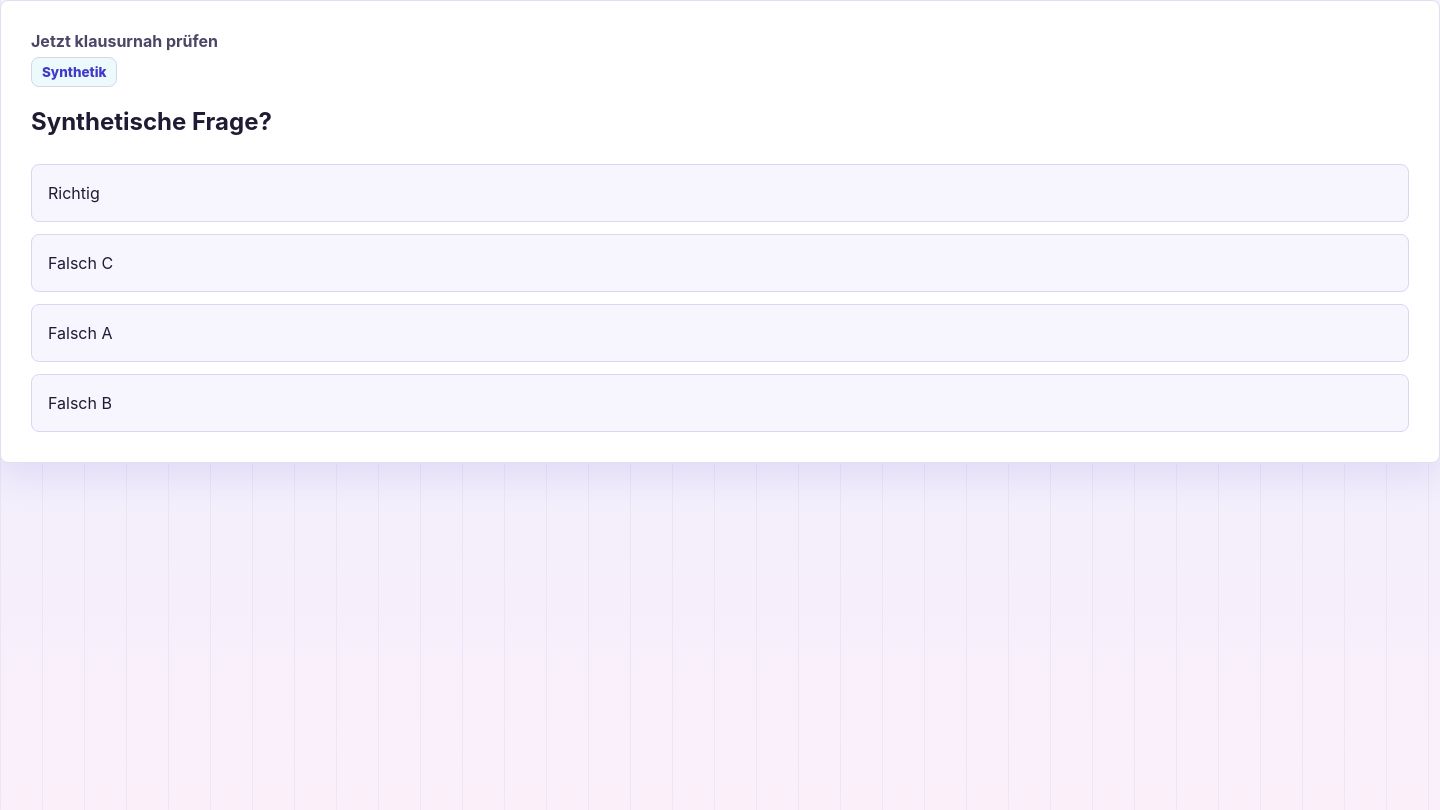
Scenario: McResolverCard: Antwortoptionen werden gemischt › mischt für die nächste Frage neu und setzt die Auswahl zurück (Test 22)
Click the button with class "answer-button" showing "Richtig": (74, 193) [31,164,1409,222]
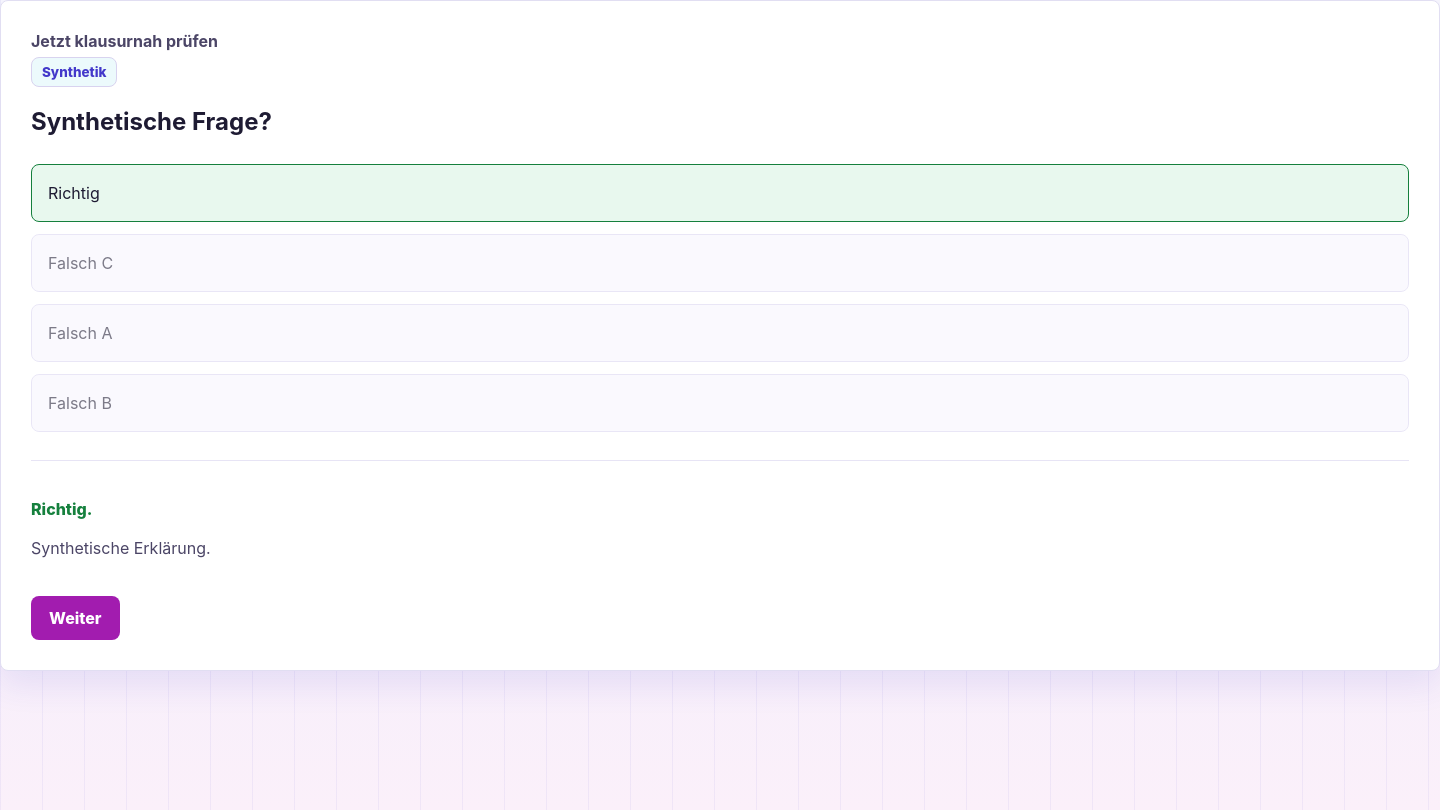
expect the element with class "feedback-box" is shown: met, box [31,460,1409,640]
